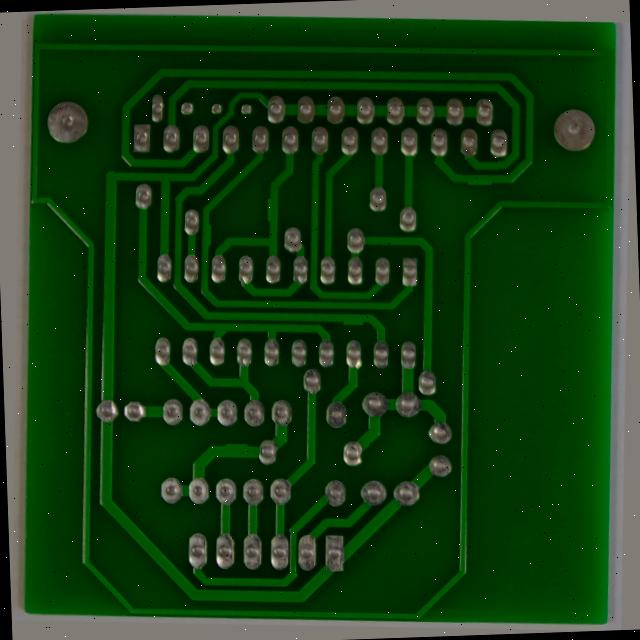spur: (219, 450, 255, 475), (460, 154, 497, 174), (251, 191, 273, 222), (336, 308, 370, 327), (186, 222, 207, 250)
